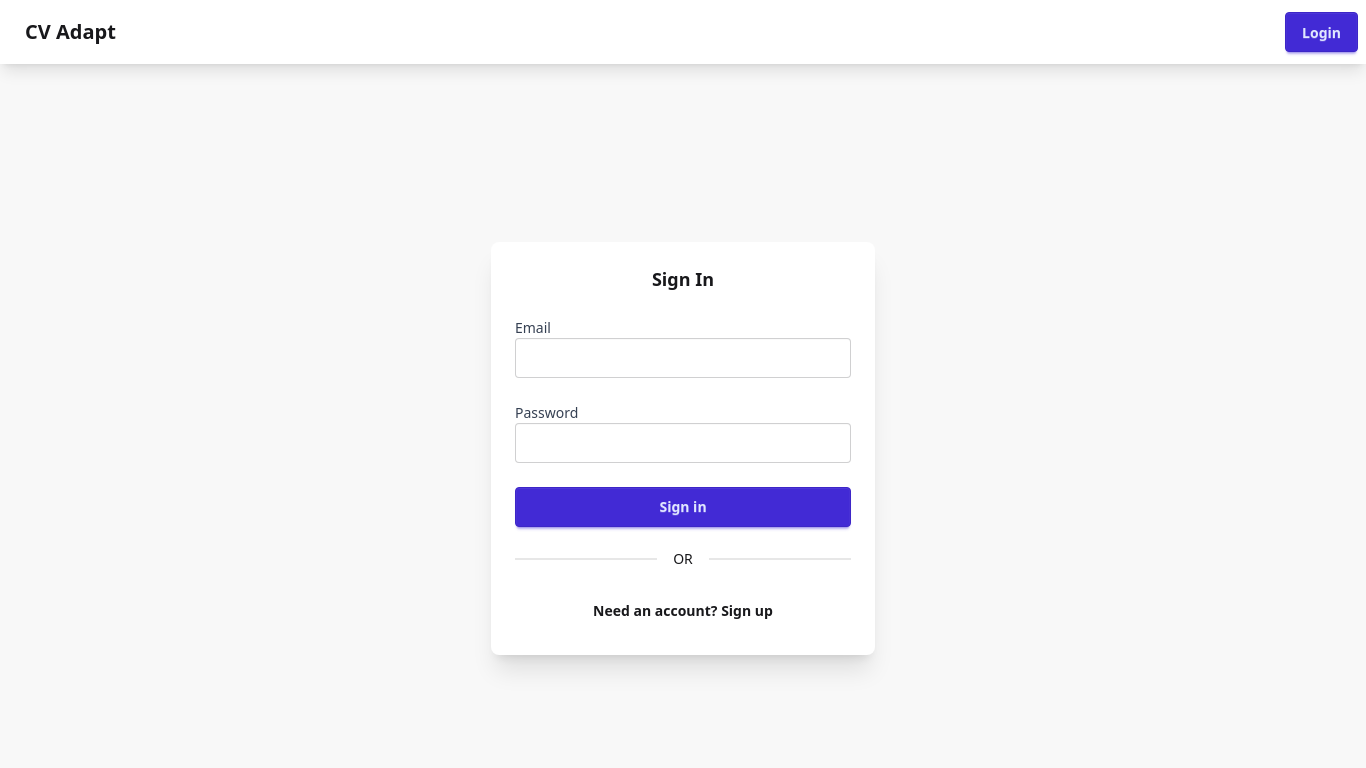
Test: Auth Flow Integration › should allow switching between login and register forms
Expected: the heading "Sign In" is shown, [652,266,714,290]
Switch to register form
Click the button "Need an account? Sign up".
click(683, 610)  # box [515,590,851,630]
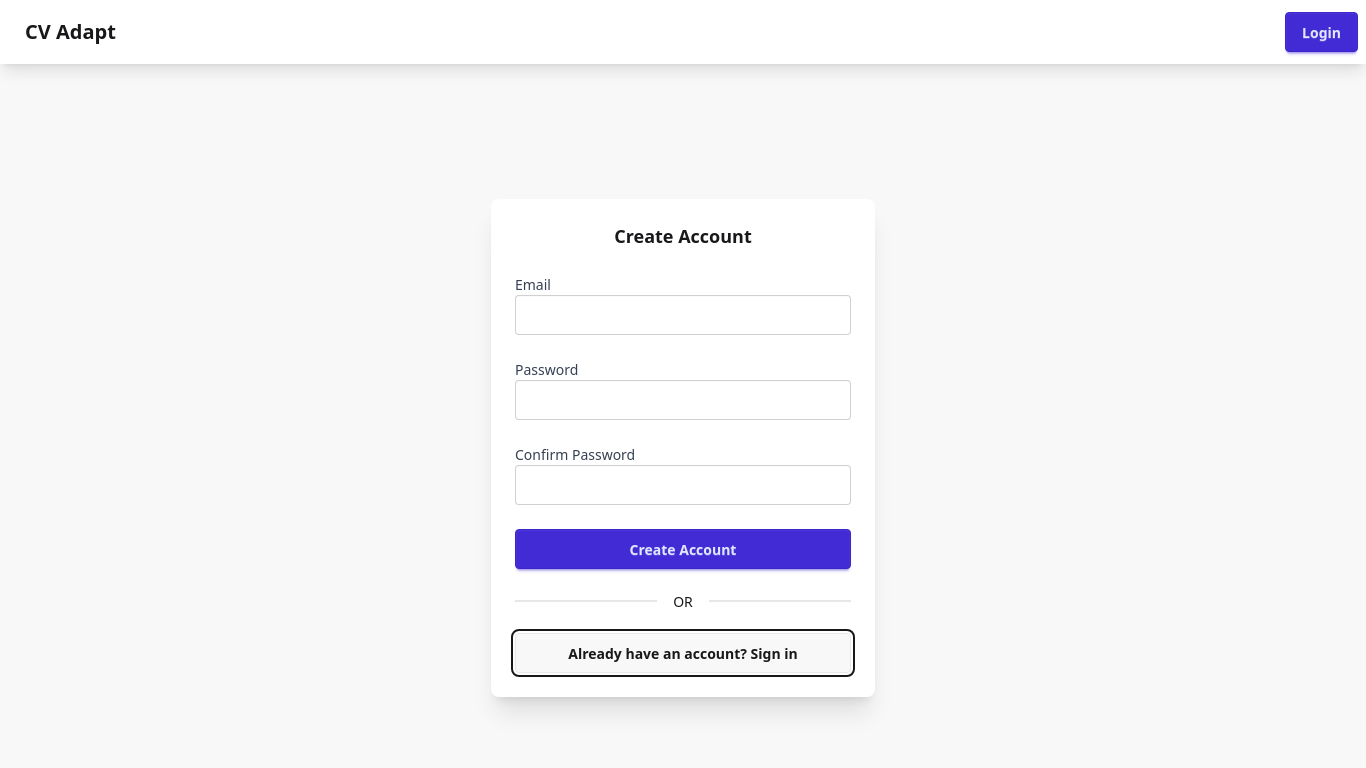
Expected: the heading "Create Account" is shown, [614,224,752,248]
Switch back to login
Click the button "Already have an account? Sign in".
click(683, 653)  # box [515,633,851,673]
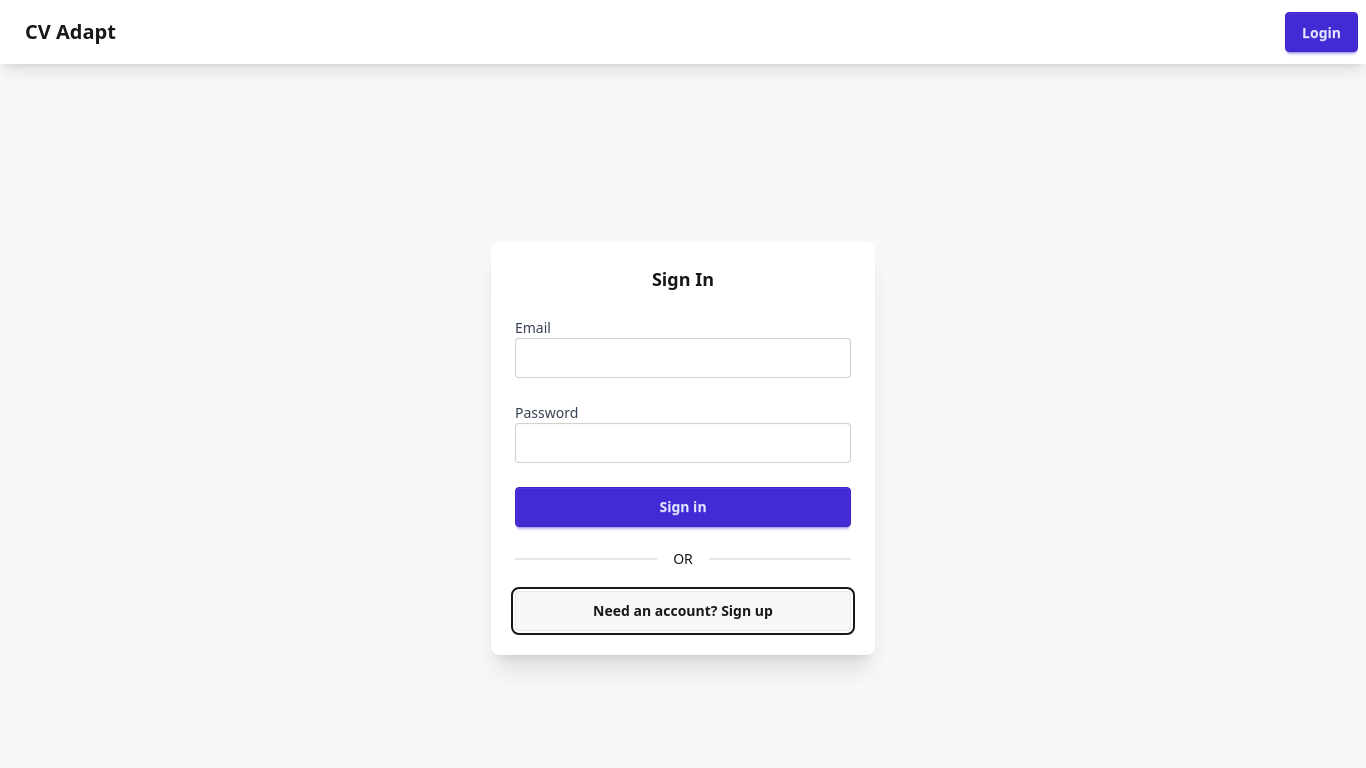
Expected: the heading "Sign In" is shown, [652,266,714,290]
